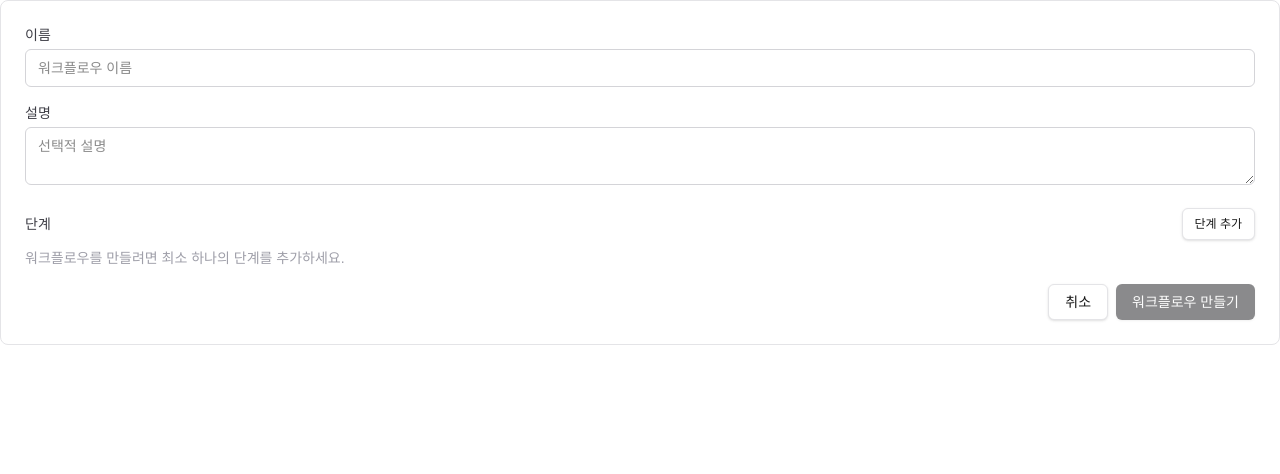
Scenario: WorkflowCreateForm › remove step removes a step editor
Click the button with test id "add-step-button" at (1218, 224), box [1182,208,1255,240]
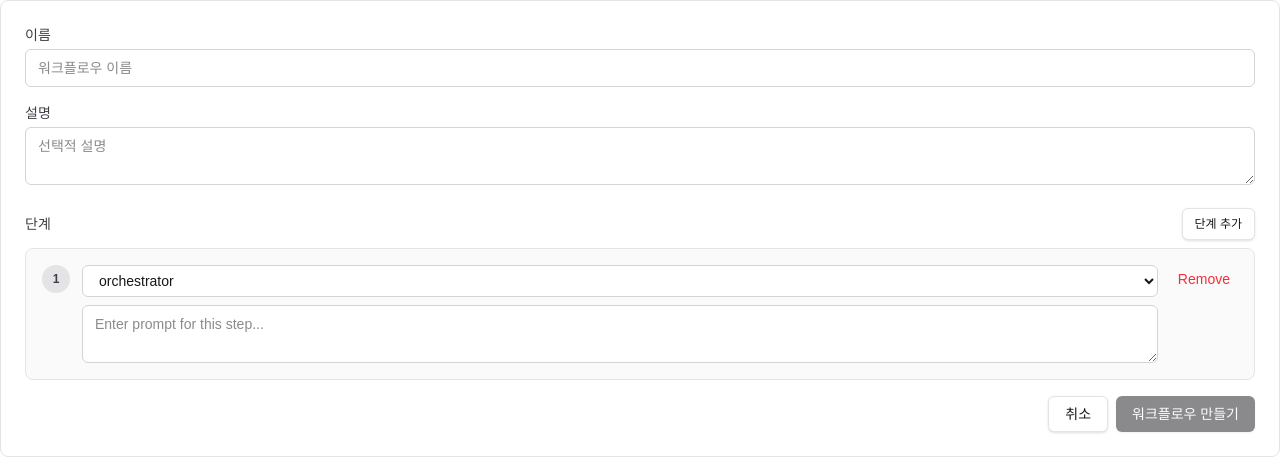
Expected: the element with test id "step-editor-0" is shown, [25,248,1255,380]
Click the button with test id "remove-step-0" at (1204, 279), box [1170,265,1238,293]
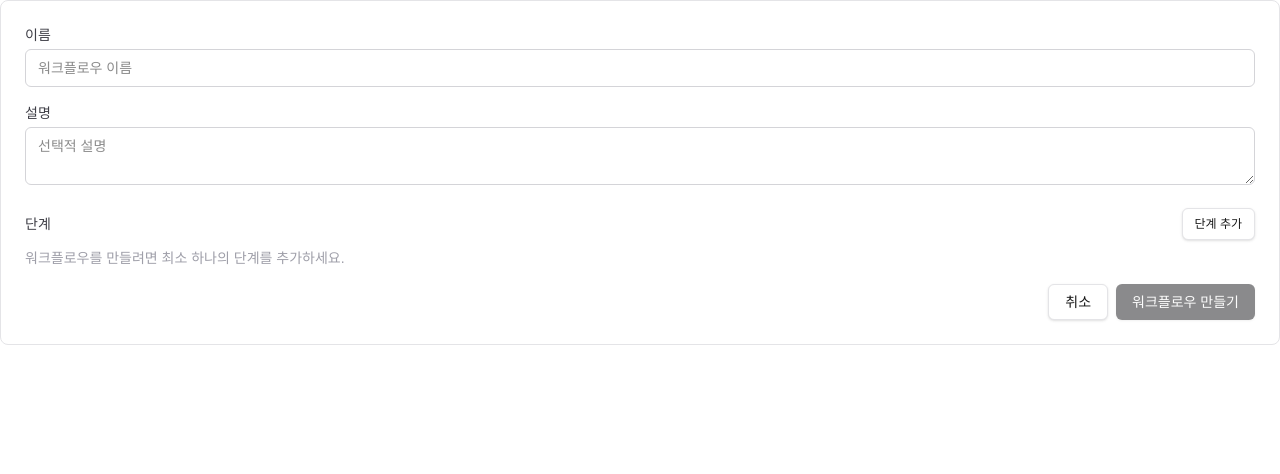
Expected: the element with test id "step-editor-0" is gone
